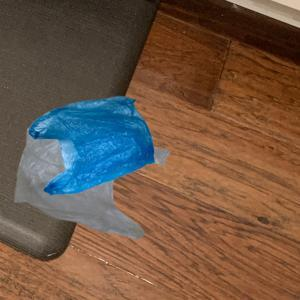plastic_bag: (12, 124, 171, 238), (25, 93, 159, 197)
